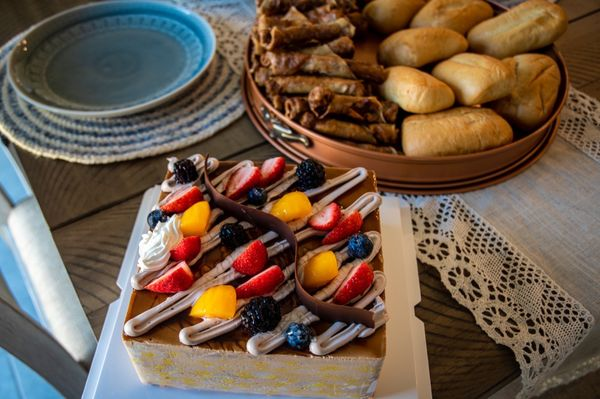sushi: (243, 0, 571, 194)
